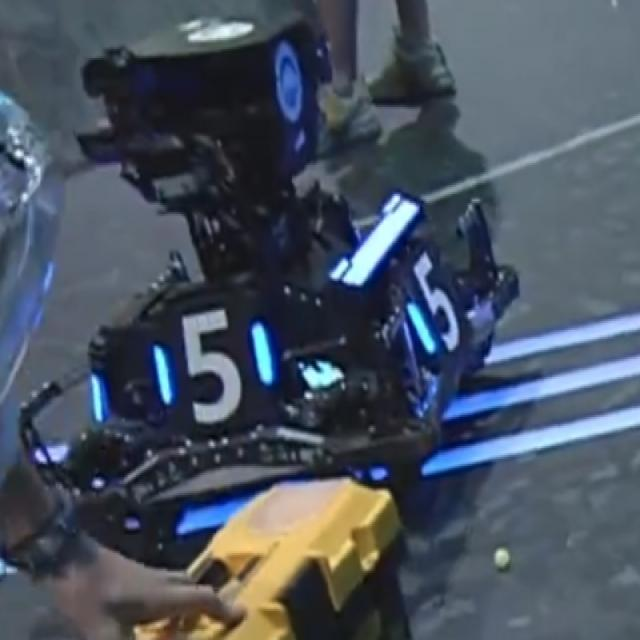B5: (149, 303, 280, 417)
